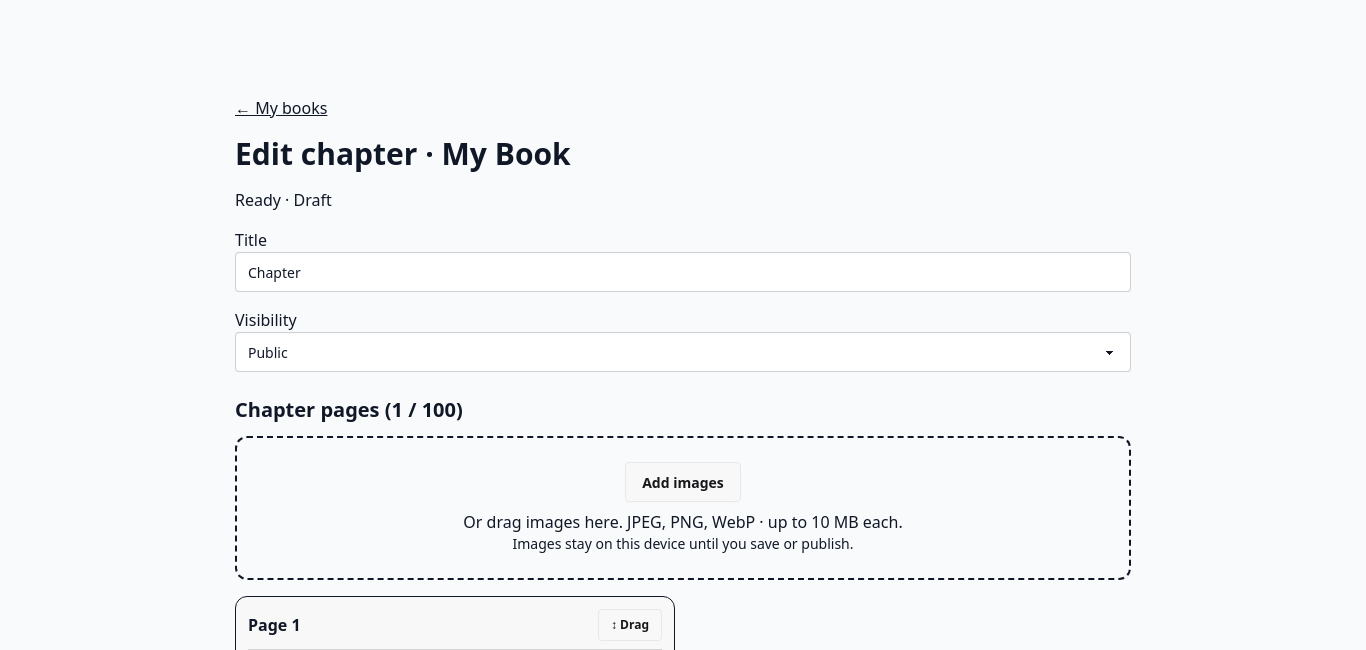
Test case: publication editor lifecycle › protects unsaved work on internal navigation
Type " changed" into the field labelled "Title" at x=683, y=272, box [235,252,1131,292]
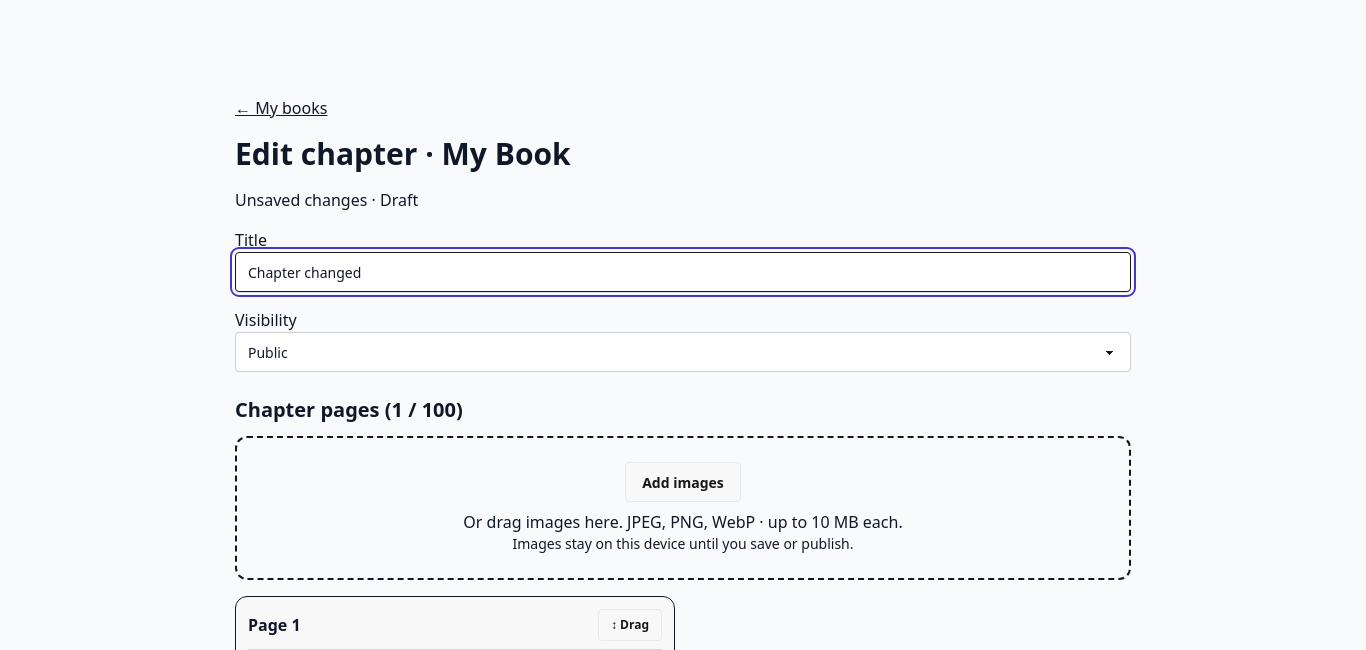
Click the link "← My books" at x=281, y=108, box [235,97,327,119]
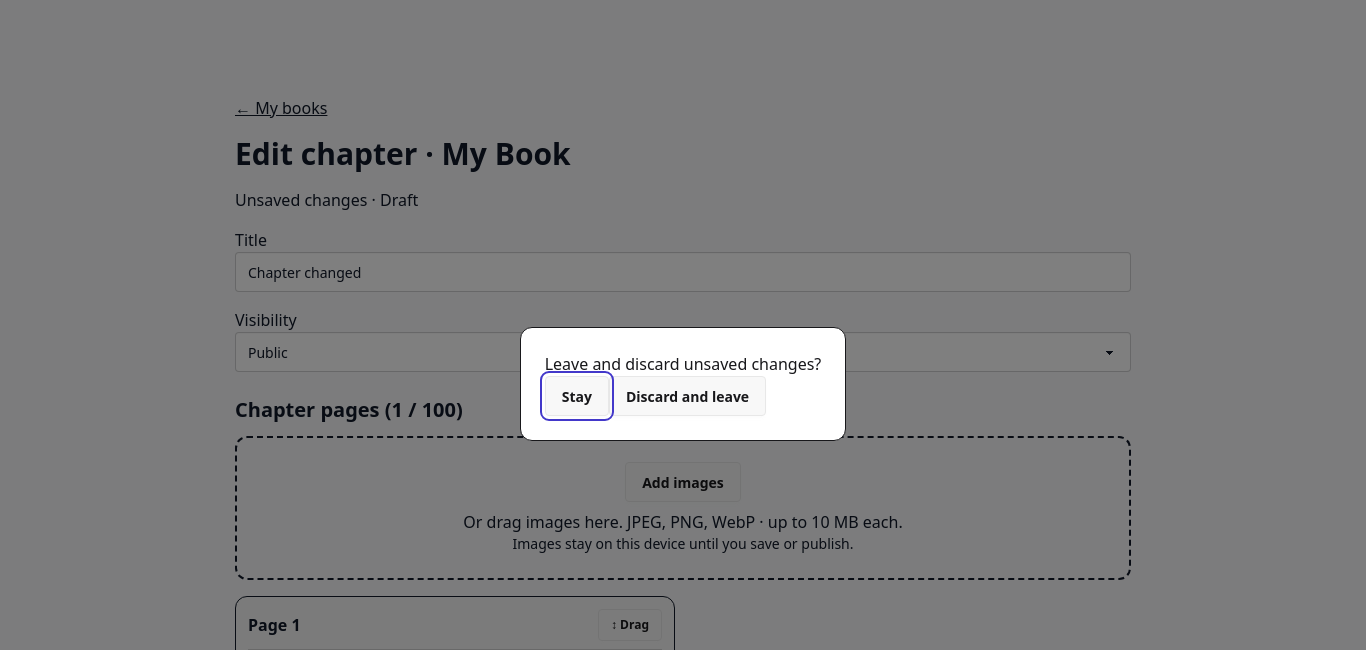
Check: the dialog "unsaved changes" is shown, box [520,327,846,441]
Click the button "Stay" at x=577, y=396, box [545,376,609,416]
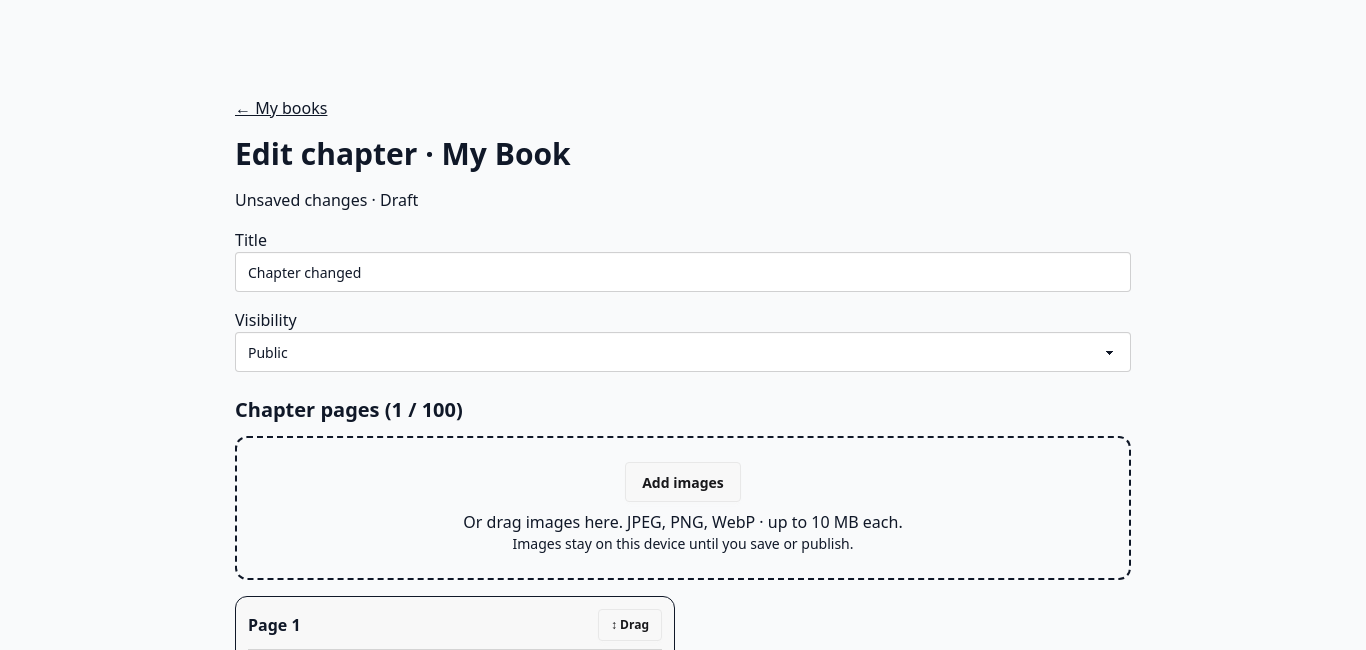
Check: the dialog is gone
